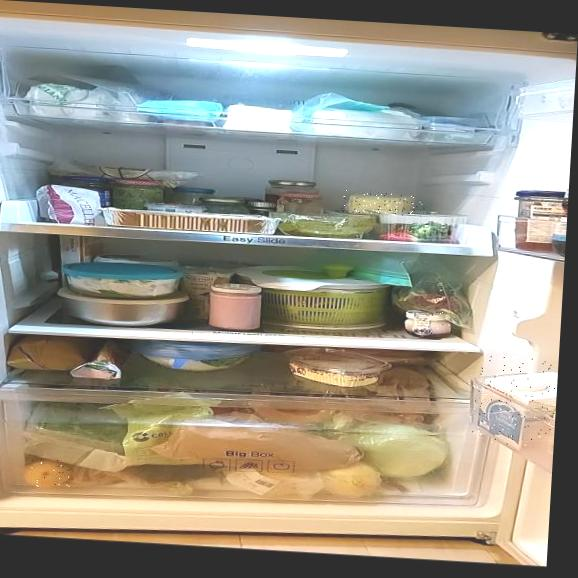cheese: (341, 190, 426, 217)
lemon: (24, 459, 79, 492)
milk: (471, 354, 559, 447)
yoghurt: (404, 311, 454, 339)
